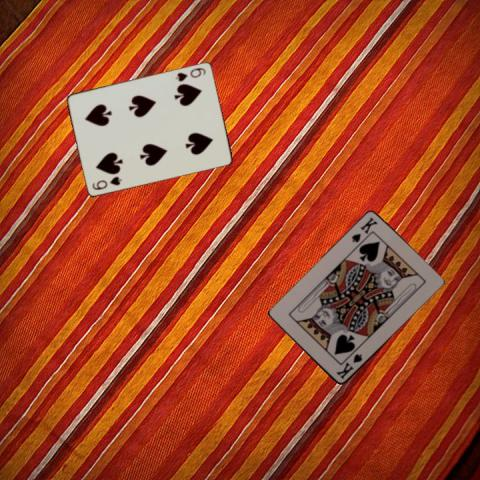6s: (90, 173, 123, 191), (173, 65, 207, 82)
Ks: (333, 351, 364, 381), (348, 215, 378, 244)
